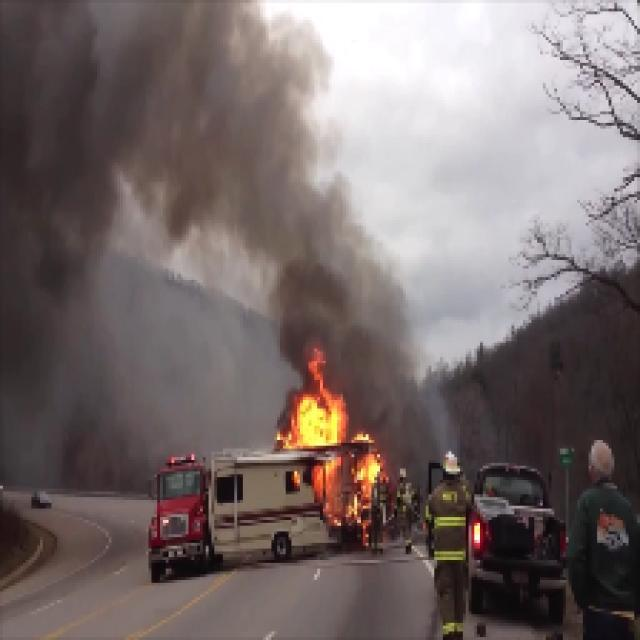Smoke: (0, 4, 267, 254), (271, 146, 392, 340)
